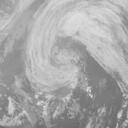cyclone: (23, 41, 82, 92)
